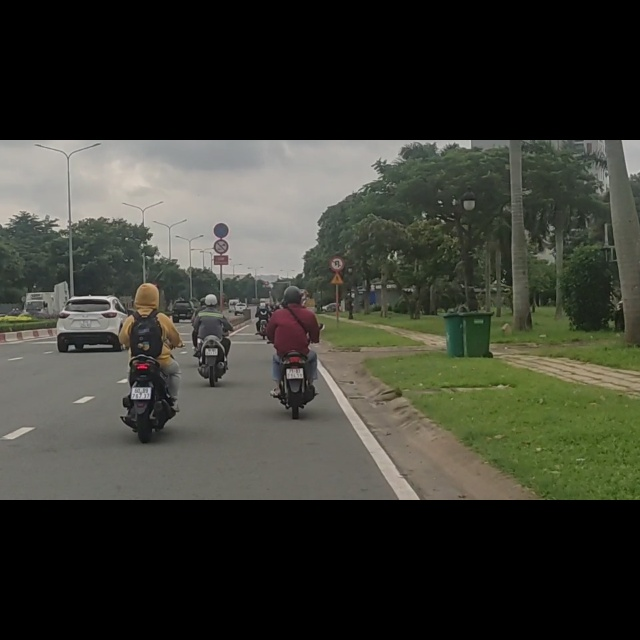bien_cam: (329, 206, 345, 235), (214, 177, 229, 203), (215, 148, 229, 174), (330, 235, 345, 256)
